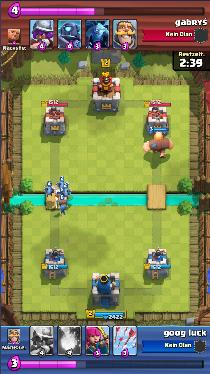ally_giant: (143, 131, 173, 157)
ally_minion: (62, 188, 71, 196), (46, 187, 54, 195), (59, 180, 66, 189)
ally_wallbreaker: (59, 202, 68, 215), (55, 191, 63, 204)
